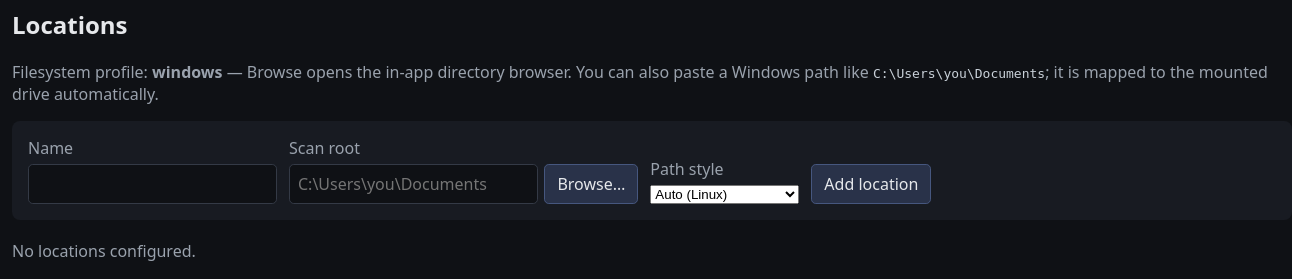
Test: browse uses the native picker when available
expect the text "No locations configured." is shown: met, box [12,240,196,262]
Click the button "Browse…" at coordinates (591, 184), box [544,164,638,204]
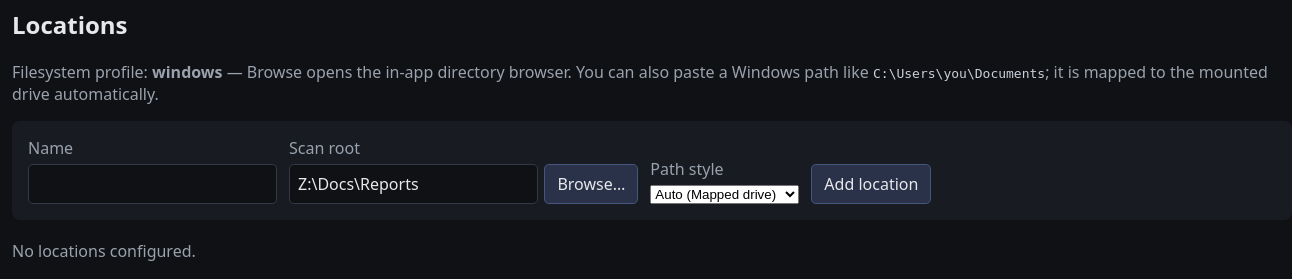
expect the field labelled "Scan root" holds "Z:\\Docs\\Reports": met, box [289,164,538,204]
